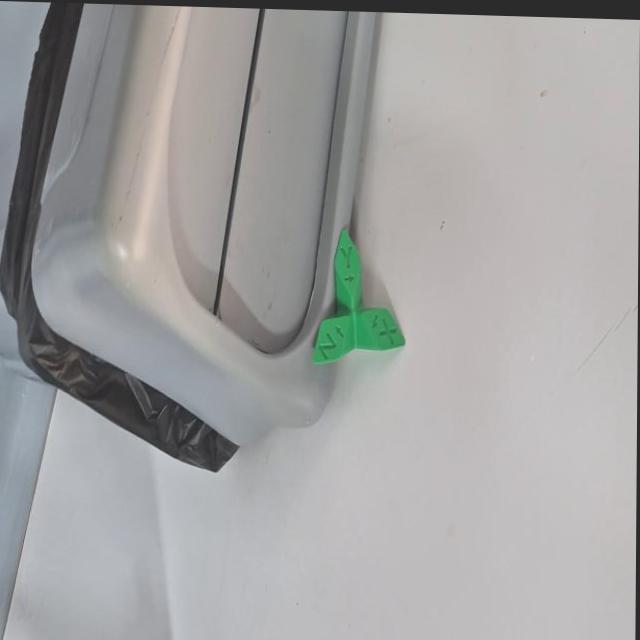eje: (310, 225, 408, 369)
